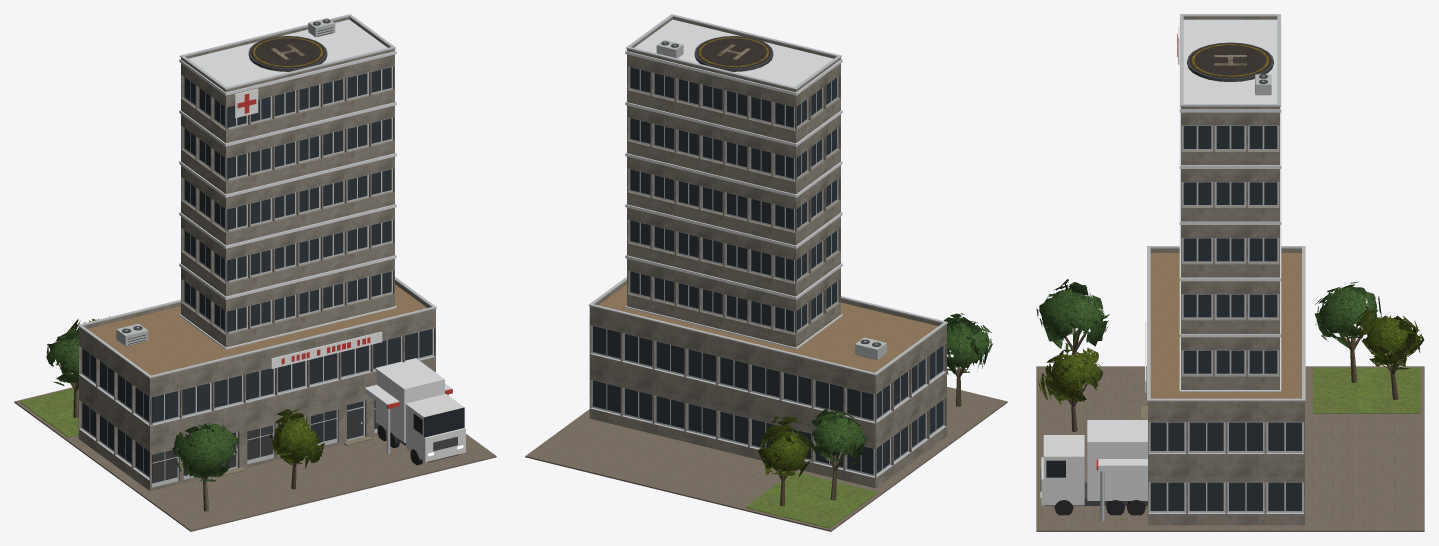
Rendered from hospital.glb.
3 renders of one model, left to right at view 1: azimuth 30°, elevation 25°; view 2: azimuth 150°, elevation 25°; view 3: azimuth 270°, elevation 25°, orthographic. The views are drawn at different scales.
Visible parts, largest first — view 1: hospital_body, hospital_foliage; view 2: hospital_body, hospital_foliage; view 3: hospital_body, hospital_foliage.
Part boxes in pixels (x1,y1,x2,y2): hospital_body: [14, 14, 496, 531]; hospital_foliage: [46, 316, 324, 481]; hospital_body: [525, 14, 1007, 531]; hospital_foliage: [758, 313, 992, 478]; hospital_body: [1036, 14, 1424, 531]; hospital_foliage: [1036, 279, 1424, 404].
Size of the model in its own units: 0.94 by 1.11 by 0.94.
Materials: 29 (14 with a texture image).
